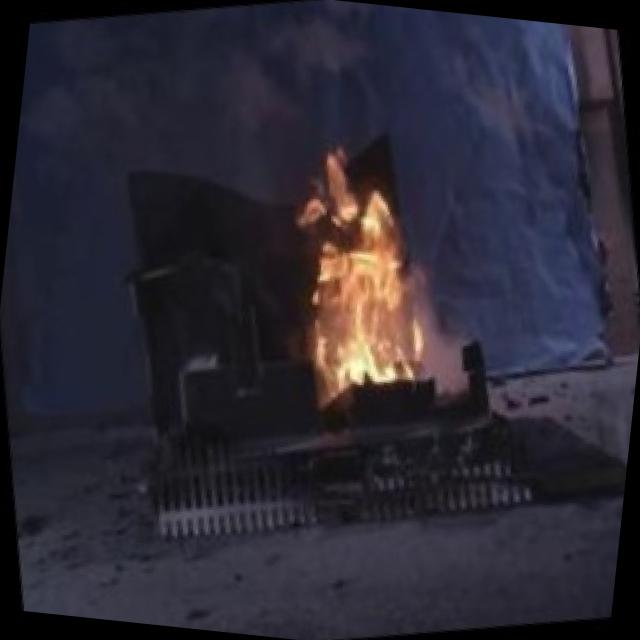fire: (249, 109, 470, 432)
